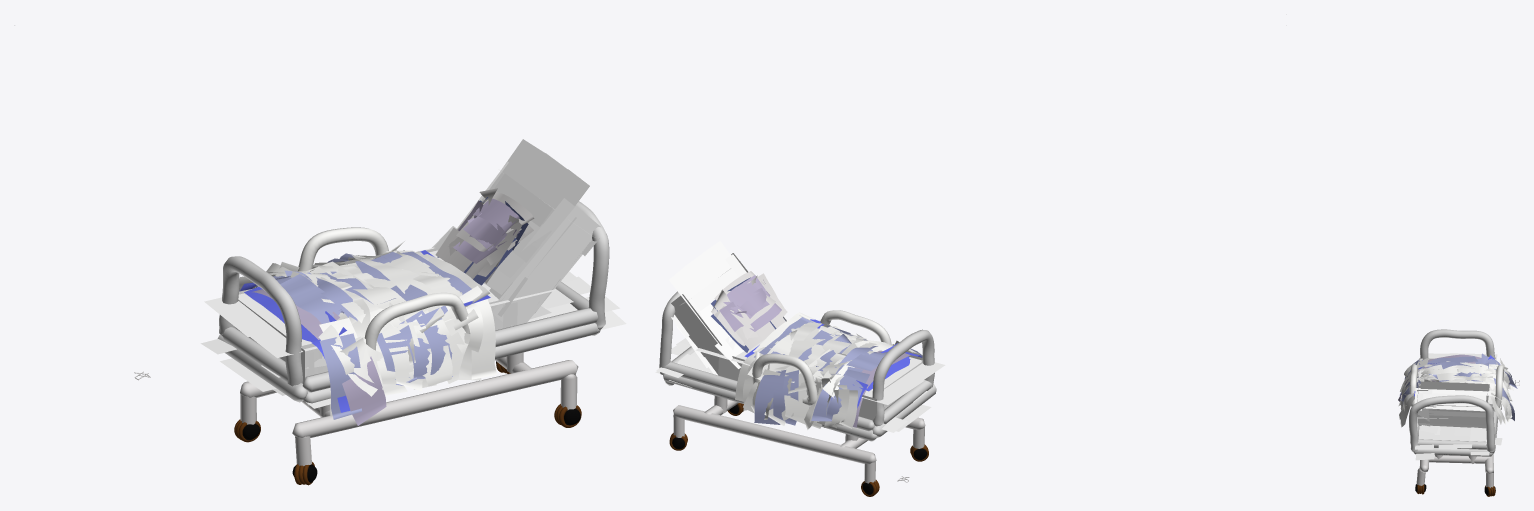
File: Bed.fbx
3 renders of one model, left to right at view 1: azimuth 30°, elevation 25°; view 2: azimuth 150°, elevation 25°; view 3: azimuth 270°, elevation 25°, orthographic. The views are drawn at different scales.
Visible parts, largest first — view 1: brush_Charcoal_g0_b0, brush_Icing_g0_b0, brush_Lacewing_g0_b0, brush_Wire (Lit)_g0_b0, brush_SmoothHull_g0_b0; view 2: brush_Charcoal_g0_b0, brush_Icing_g0_b0, brush_Lacewing_g0_b0; view 3: brush_Icing_g0_b0, brush_Lacewing_g0_b0, brush_Charcoal_g0_b0.
Part boxes in pixels (<box>): brush_Charcoal_g0_b0: <box>239,188,534,425</box>; brush_Icing_g0_b0: <box>134,201,609,465</box>; brush_Lacewing_g0_b0: <box>14,25,626,408</box>; brush_Wire (Lit)_g0_b0: <box>234,362,581,485</box>; brush_SmoothHull_g0_b0: <box>242,361,580,482</box>; brush_Charcoal_g0_b0: <box>711,271,922,429</box>; brush_Icing_g0_b0: <box>659,291,936,483</box>; brush_Lacewing_g0_b0: <box>655,14,1286,432</box>; brush_Icing_g0_b0: <box>1409,329,1519,488</box>; brush_Lacewing_g0_b0: <box>1315,14,1502,460</box>; brush_Charcoal_g0_b0: <box>1398,353,1517,427</box>.
Bounding box in the file's own units: 443 × 380 × 221.
